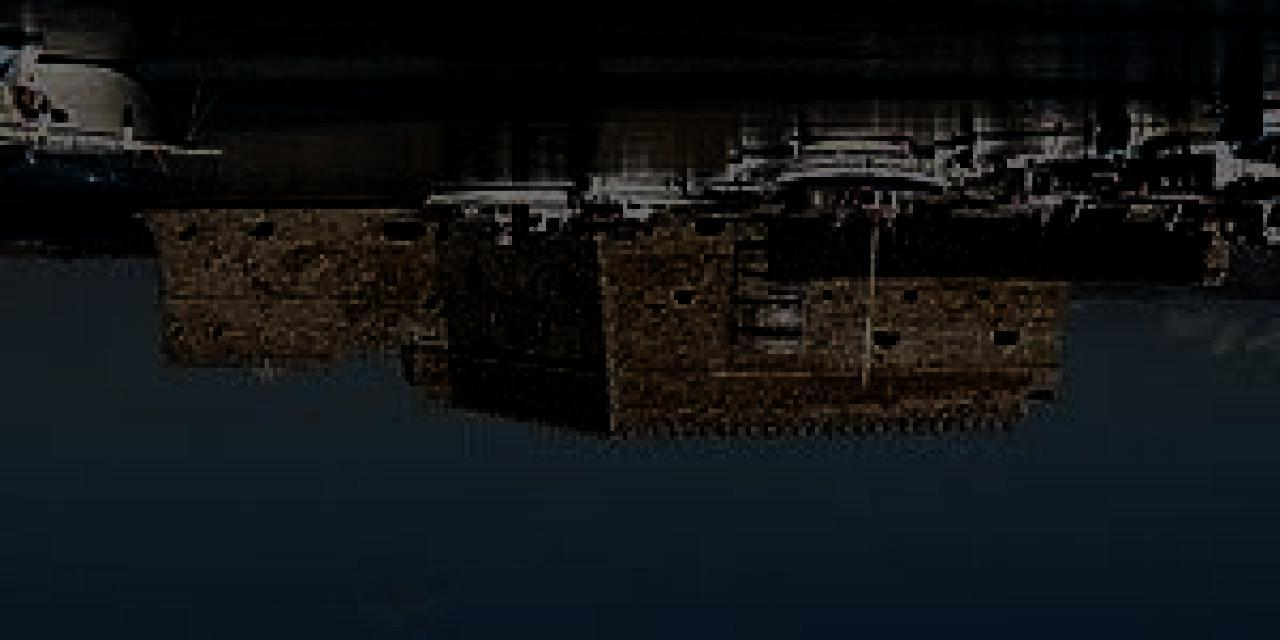Kules: (131, 206, 1067, 464)
